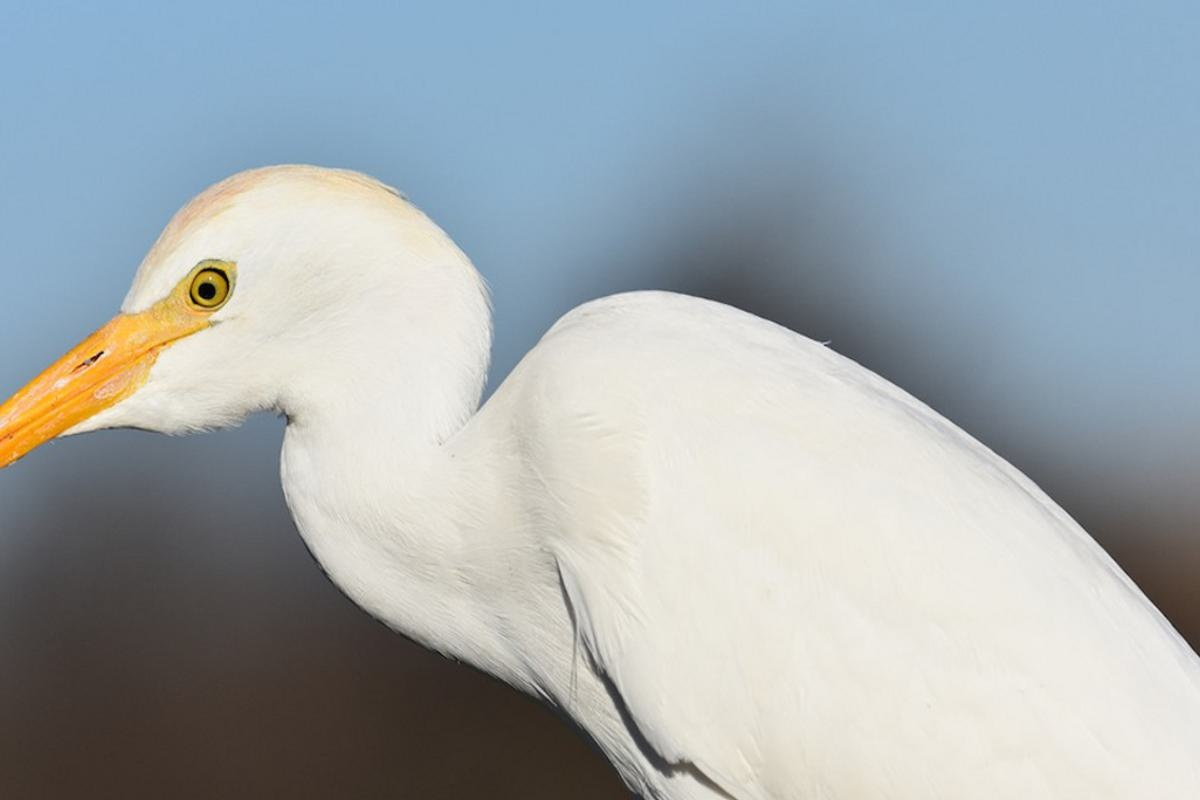egret: (8, 156, 1200, 800)
